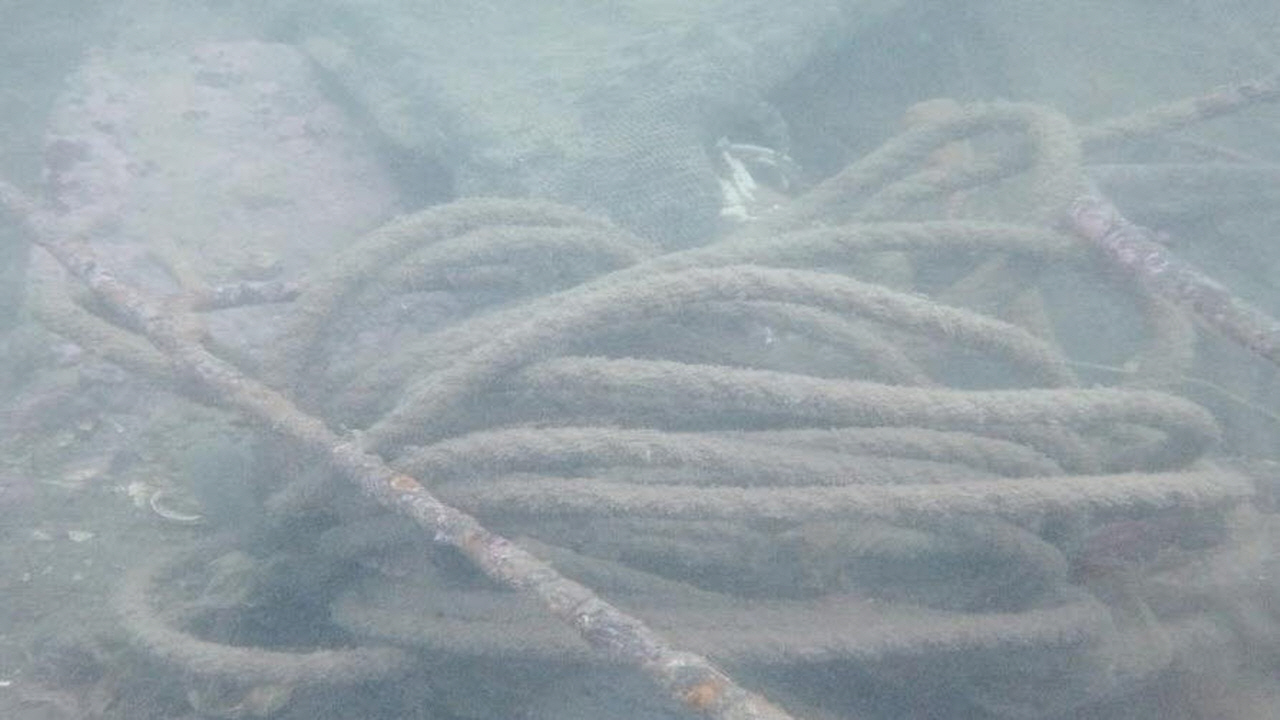bundle of ropes: (0, 67, 1280, 720)
